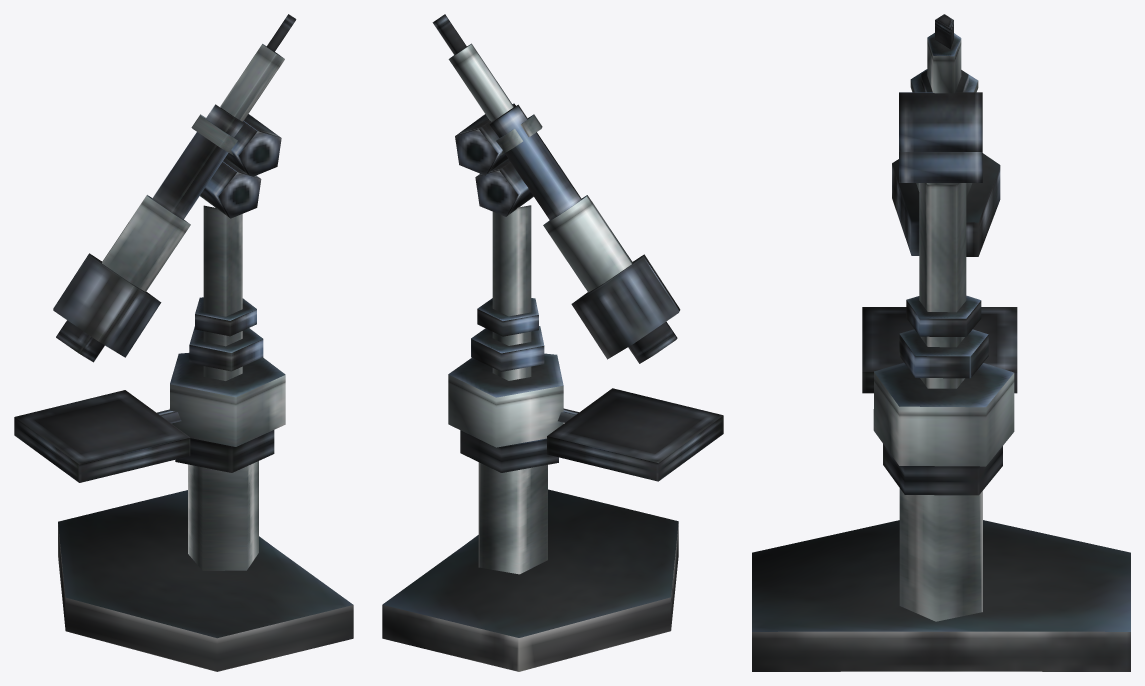
File: a_SCgen33.glb
3 renders of one model, left to right at view 1: azimuth 30°, elevation 25°; view 2: azimuth 150°, elevation 25°; view 3: azimuth 270°, elevation 25°, orthographic. The views are drawn at different scales.
Visible parts, largest first — view 1: a_SCgen33; view 2: a_SCgen33; view 3: a_SCgen33.
Part boxes in pixels (left/top/right/bottom): a_SCgen33: left=14, top=14, right=353, bottom=671; a_SCgen33: left=382, top=14, right=723, bottom=671; a_SCgen33: left=752, top=14, right=1130, bottom=671.
Size of the model in its own units: 0.1697 by 0.359 by 0.1847.
Materials: 1 (1 with a texture image).
